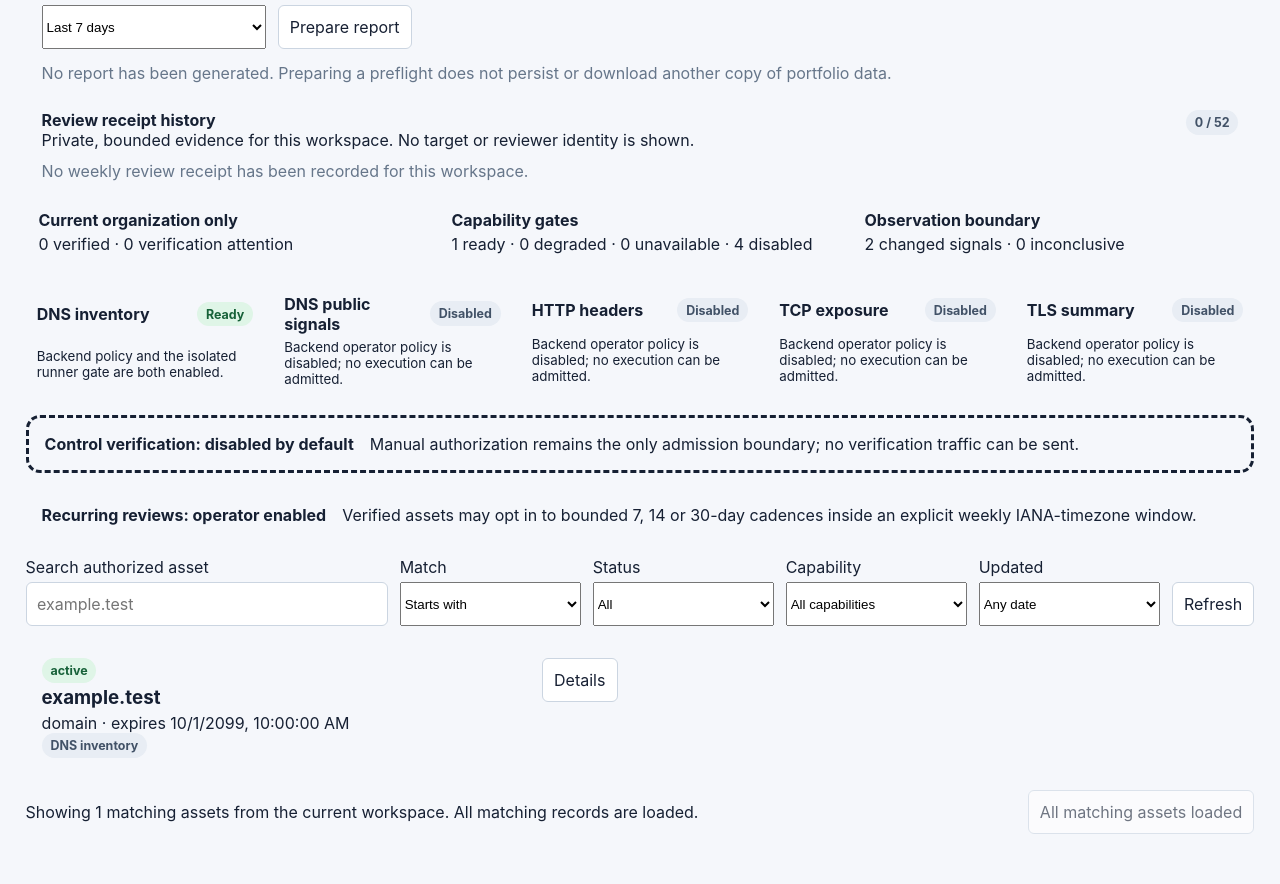
Scenario: ActiveOperationsCenter › summarizes the current organization and filters the bounded asset view
This screenshot has width=1280, height=884.
(page scrolled)
Expected: the text "0 verified · 0 verification attention" is shown, [38, 234, 293, 254]
Expected: the text "1 ready · 0 degraded · 0 unavailable · 4 disabled" is shown, [452, 234, 829, 254]
Select "TLS summary" in the dropdown labelled "Capability" at coordinates (876, 604), box [786, 582, 967, 626]
(page scrolled)
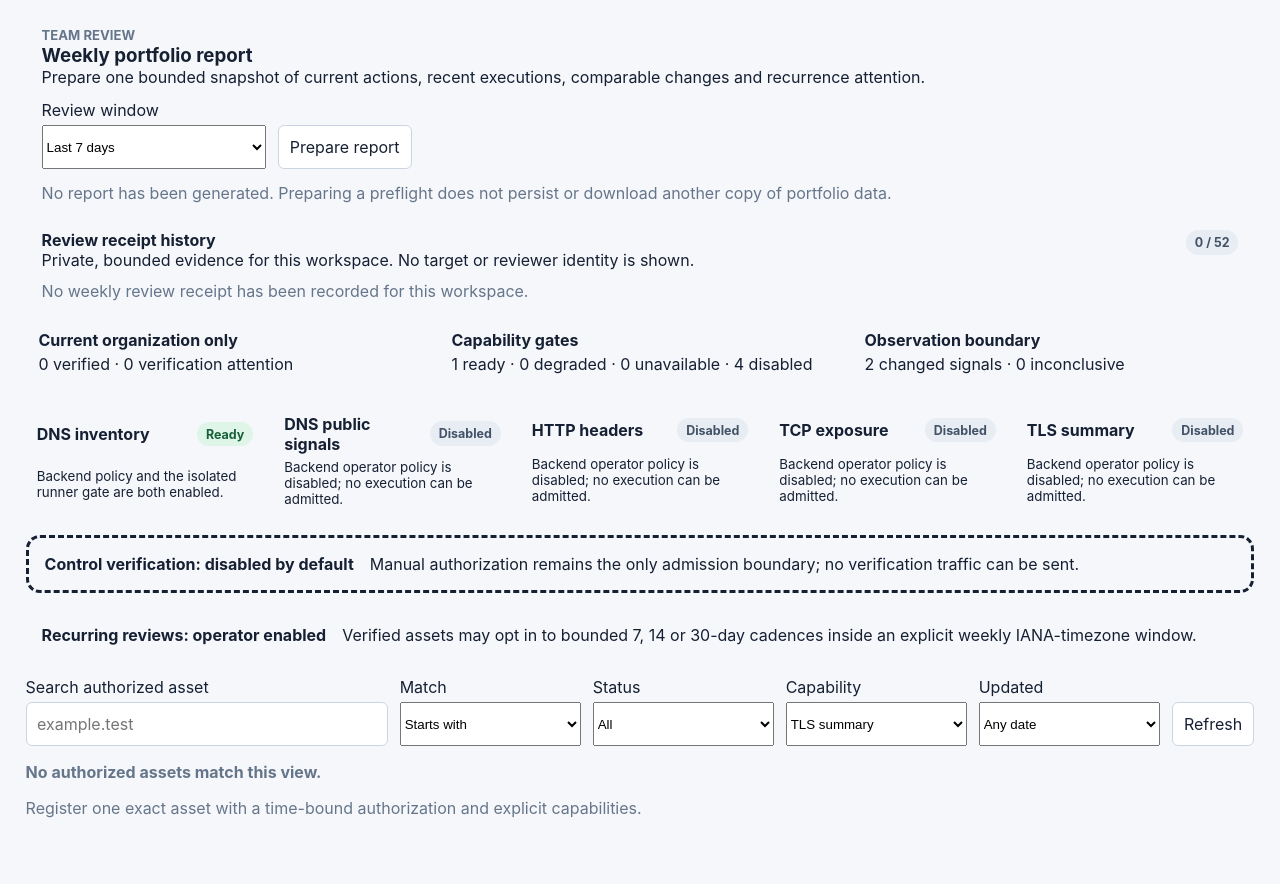
Result: the text "No authorized assets match this view." is shown at [26, 762, 321, 782]
Select "DNS inventory" in the dropdown labelled "Capability" at coordinates (876, 724), box [786, 702, 967, 746]
(page scrolled)
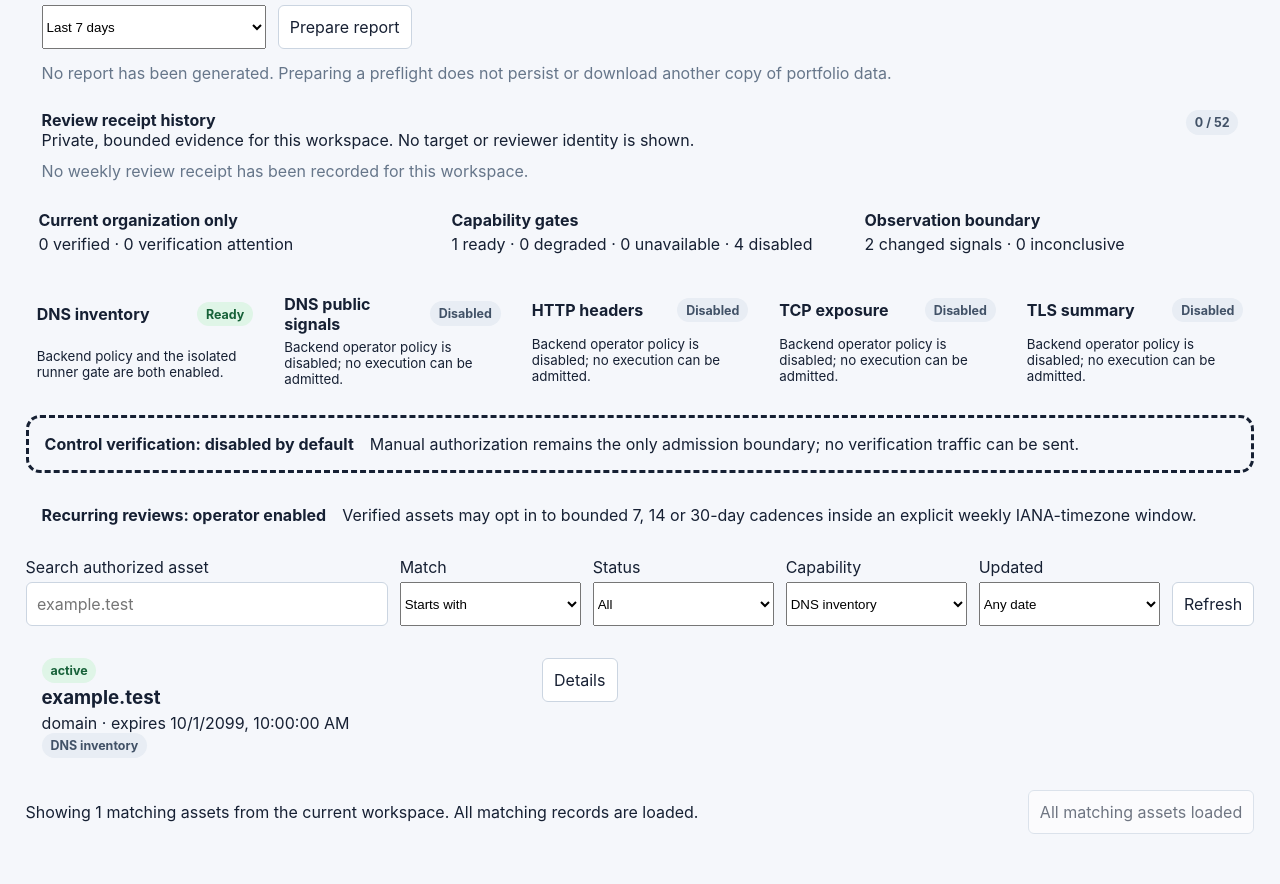
Result: the heading "example.test" is shown at [42, 686, 160, 709]
